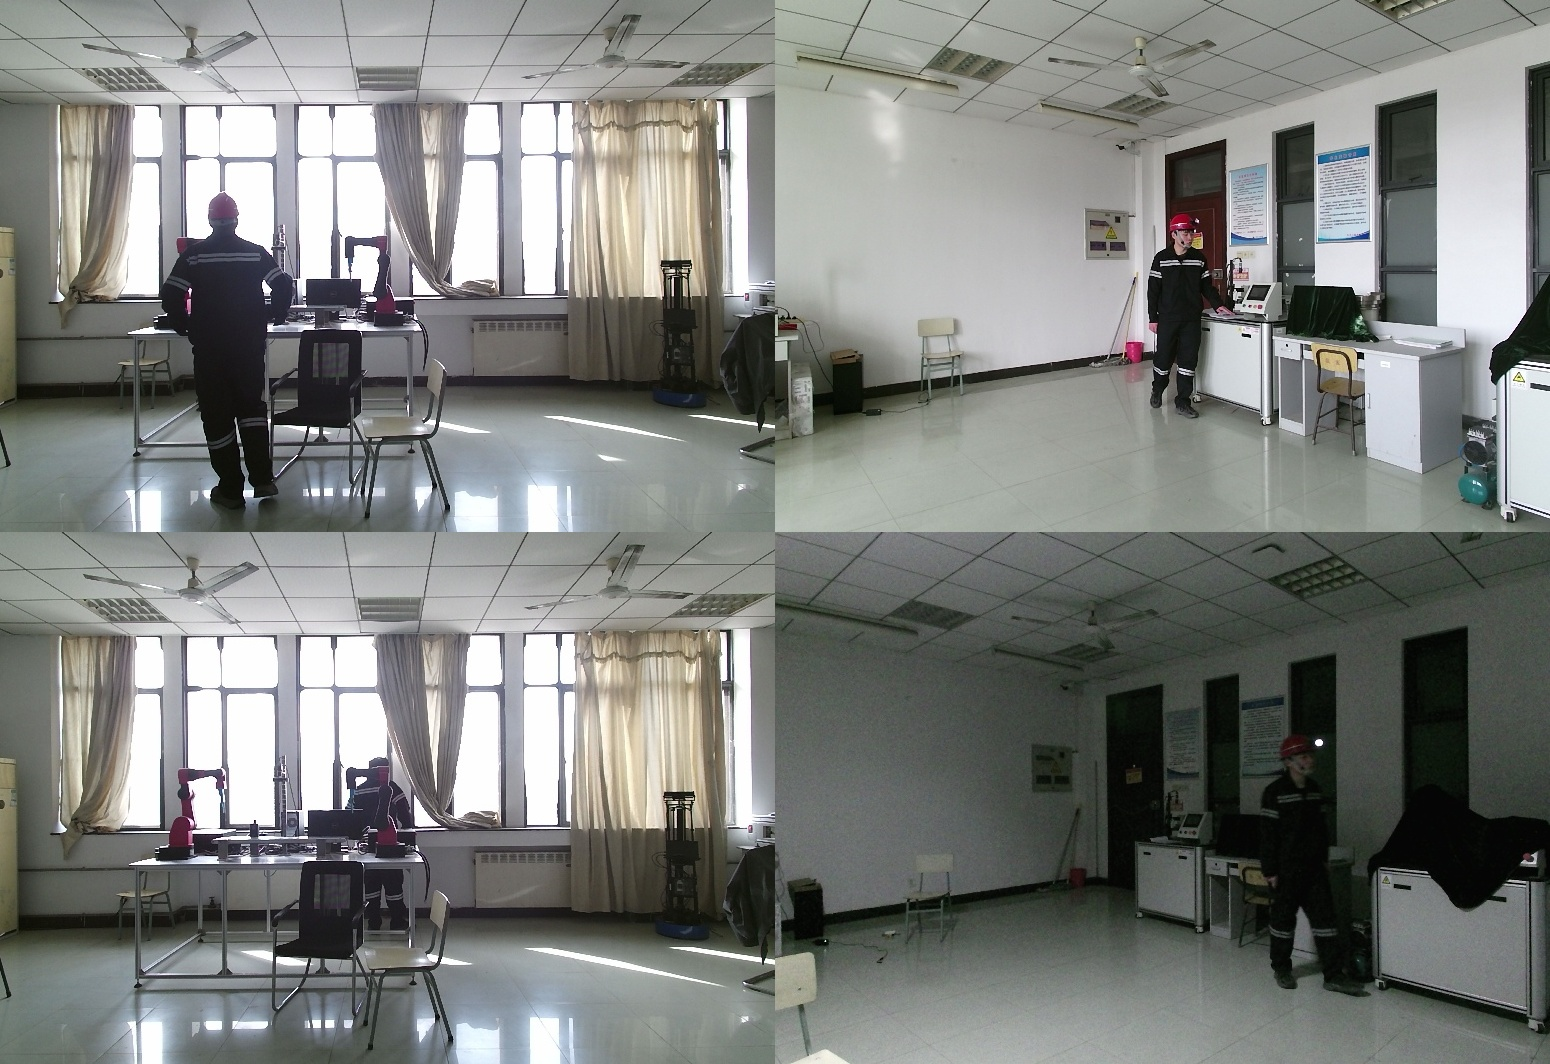person: (163, 194, 298, 506), (1255, 734, 1376, 991), (1143, 215, 1226, 420), (345, 758, 418, 951)
